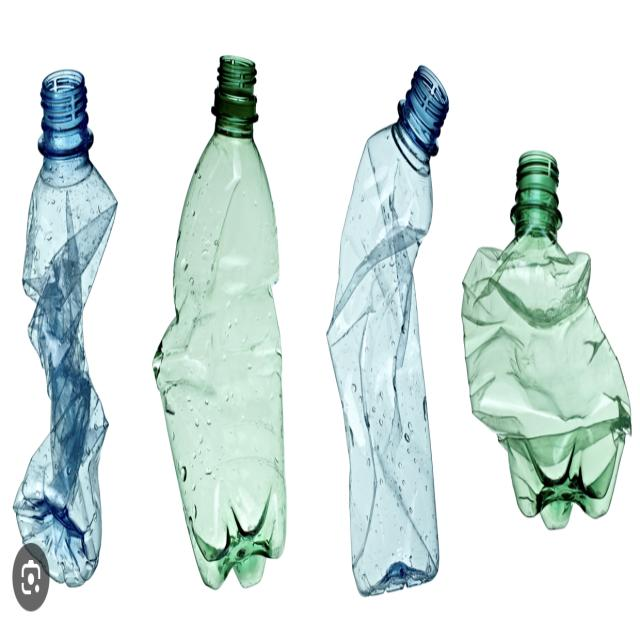recyclable: (143, 22, 304, 610), (458, 76, 638, 591), (319, 20, 463, 620), (9, 39, 124, 603)
